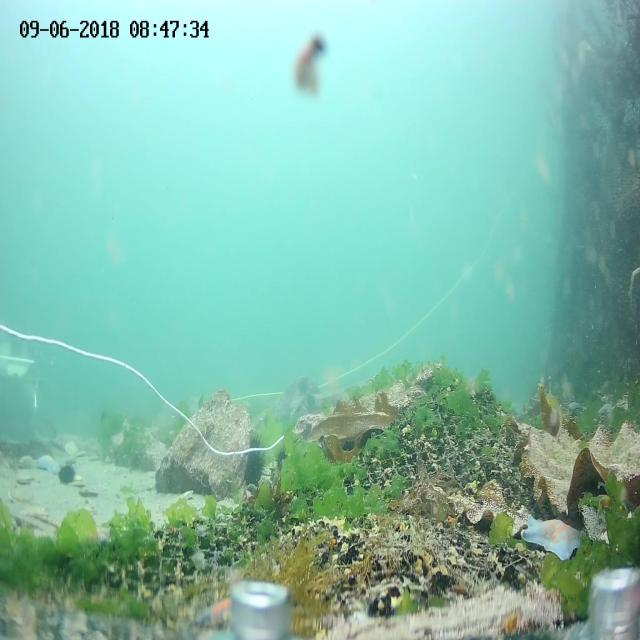echinus: (239, 437, 262, 488), (60, 464, 76, 484)
scallop: (12, 488, 38, 507), (80, 484, 103, 504), (12, 471, 32, 485)
starfish: (522, 511, 586, 572), (193, 594, 234, 630), (84, 520, 112, 546), (20, 506, 51, 524), (36, 452, 58, 472), (17, 454, 37, 470)
